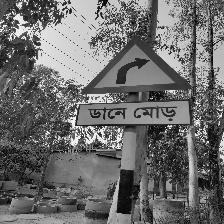Right-turn: (77, 35, 195, 128)
